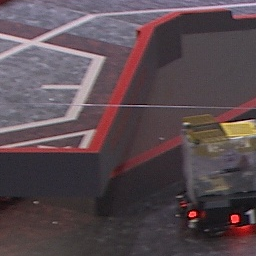Red: (230, 207, 256, 226)
Robot: (171, 112, 256, 236)
